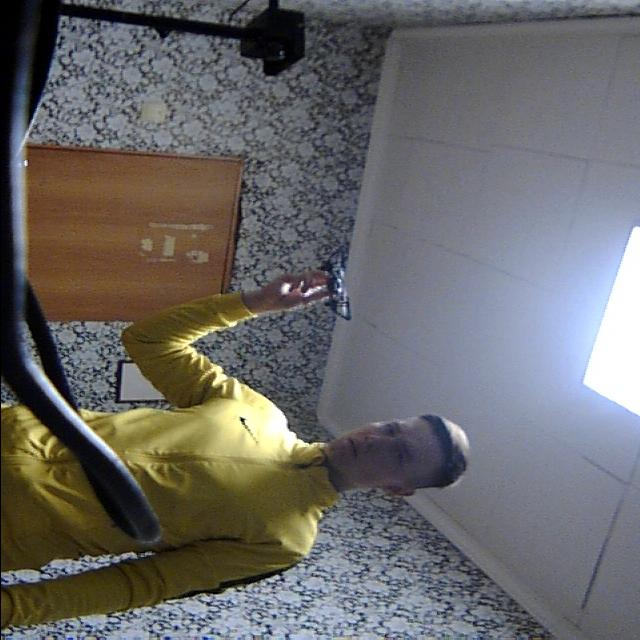drone: (315, 234, 367, 326)
